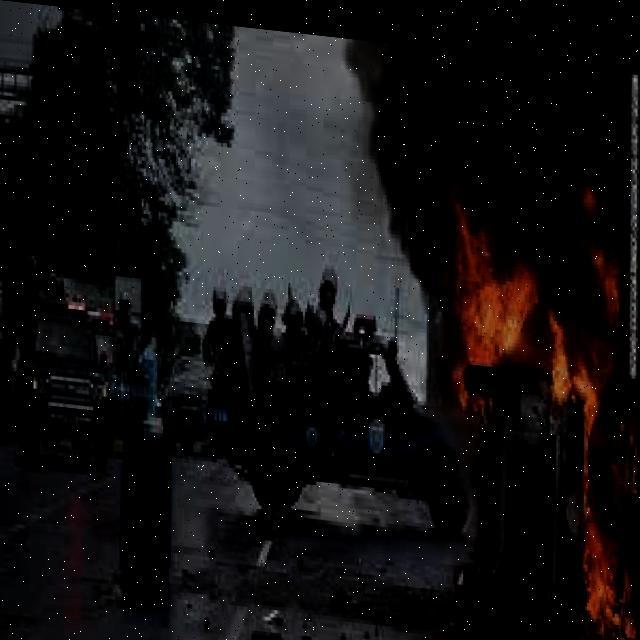Fire: (422, 159, 630, 421), (542, 432, 636, 628)
